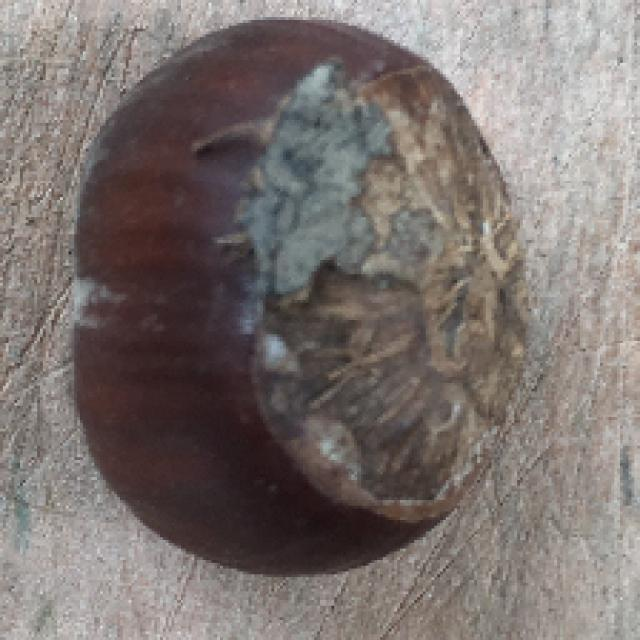DamagedHazelnut: (68, 16, 532, 579)
